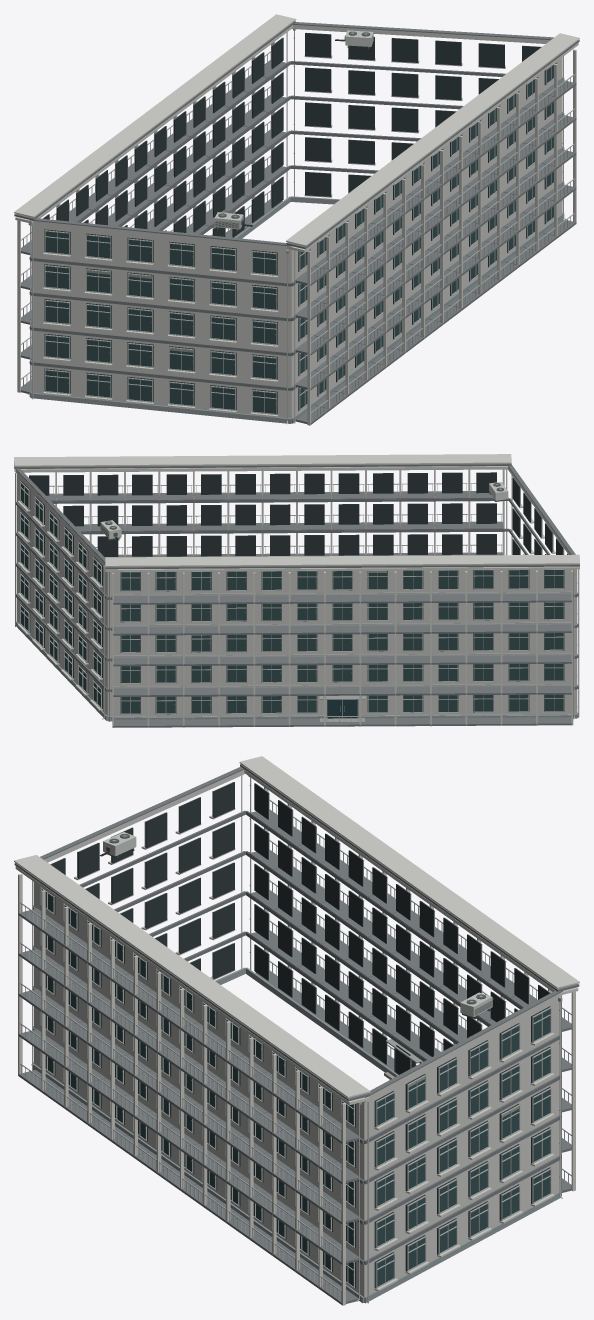
The model's file is njupt_k_dormitory_04.glb.
3 views of the same model, one above another, from view 1: azimuth 30°, elevation 25°; view 2: azimuth 150°, elevation 25°; view 3: azimuth 270°, elevation 25° (orthographic). The views are drawn at different scales.
Visible parts, largest first — view 1: Windows and facade details | K组团宿舍（模型序号4）, Architecture | K组团宿舍（模型序号4）, Roof services | K组团宿舍（模型序号4）, EXTERIOR::njupt_k_dormitory_04::rainwater and roof service d; view 2: Windows and facade details | K组团宿舍（模型序号4）, Architecture | K组团宿舍（模型序号4）, Roof services | K组团宿舍（模型序号4）, EXTERIOR::njupt_k_dormitory_04::rainwater and roof service d, EXTERIOR::njupt_k_dormitory_04::inferred entry doors canopy ; view 3: Windows and facade details | K组团宿舍（模型序号4）, Architecture | K组团宿舍（模型序号4）, Roof services | K组团宿舍（模型序号4）, EXTERIOR::njupt_k_dormitory_04::rainwater and roof service d.
Part boxes in pixels (x1,y1,x2,y2): Windows and facade details | K组团宿舍（模型序号4）: (20,32,576,424); Architecture | K组团宿舍（模型序号4）: (17,25,576,425); Roof services | K组团宿舍（模型序号4）: (14,14,579,252); EXTERIOR::njupt_k_dormitory_04::rainwater and roof service d: (28,29,565,424); Windows and facade details | K组团宿舍（模型序号4）: (15,469,579,727); Architecture | K组团宿舍（模型序号4）: (15,466,578,727); Roof services | K组团宿舍（模型序号4）: (14,454,579,571); EXTERIOR::njupt_k_dormitory_04::rainwater and roof service d: (100,475,574,719); EXTERIOR::njupt_k_dormitory_04::inferred entry doors canopy : (319,695,365,722); Windows and facade details | K组团宿舍（模型序号4）: (18,775,571,1304); Architecture | K组团宿舍（模型序号4）: (18,770,575,1305); Roof services | K组团宿舍（模型序号4）: (14,756,579,1105); EXTERIOR::njupt_k_dormitory_04::rainwater and roof service d: (31,776,562,1301).
Size of the model in its own units: 65.7 by 19.48 by 46.1.
